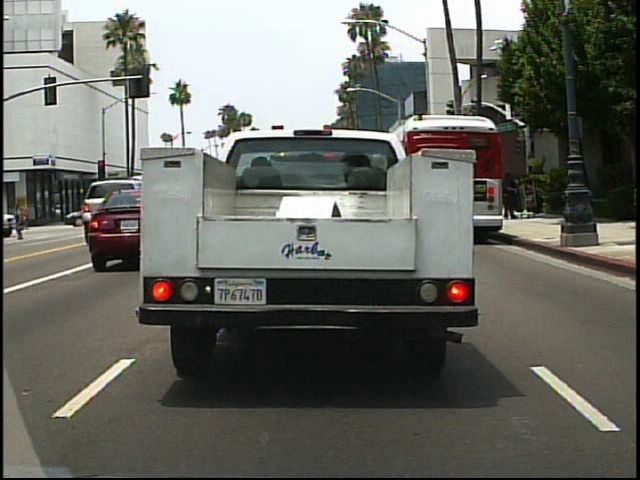person: (9, 199, 35, 246), (500, 171, 521, 222), (13, 199, 32, 234)
